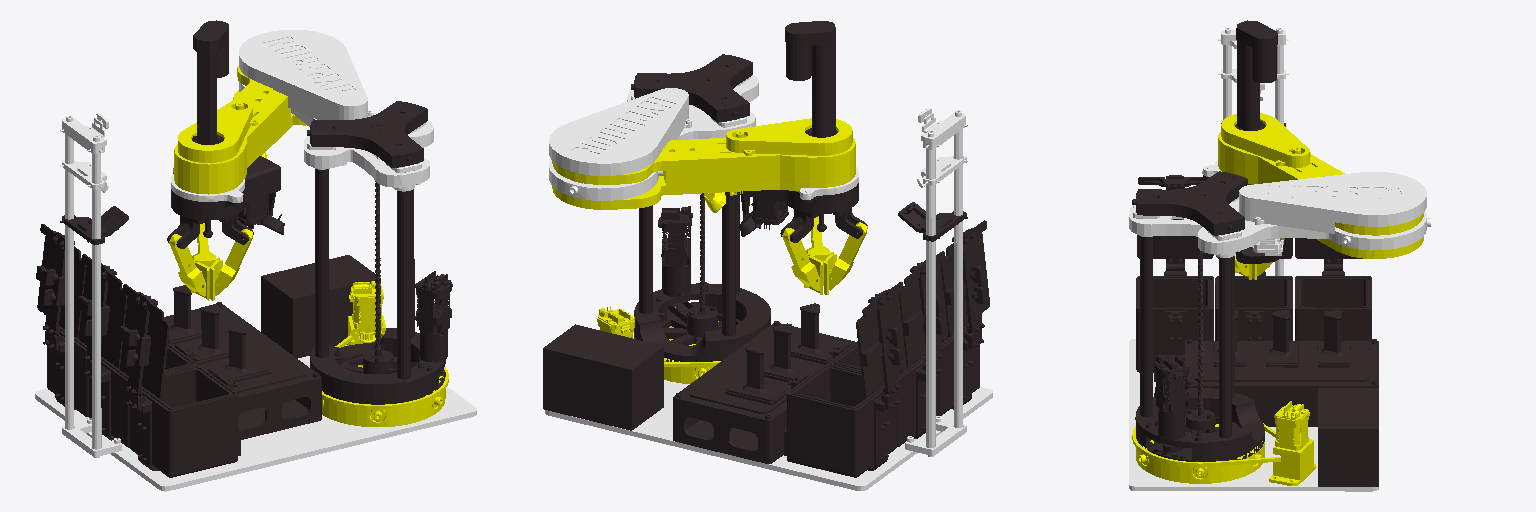
--- What the picture shows (computed from the rendered views, not written in the file) ---
The picture shows the robot from 3 angles, left to right: view 1: azimuth 30°, elevation 25°; view 2: azimuth 150°, elevation 25°; view 3: azimuth 270°, elevation 25°; orthographic projection.
Model sysmap with 22 links and 21 joints (9 revolute, 3 prismatic, 9 fixed), rooted at world, posed every joint at zero.
Links seen in each view (by area): view 1: colonne, interne, electrique, stockage_boite, platine, externe, aileron, batterie, pince_base, base, stockage_couvercle, poignet (+8 smaller); view 2: colonne, externe, electrique, interne, batterie, stockage_boite3, aileron, platine, poignet, pince_base, stockage_couvercle3, stockage_couvercle (+8 smaller); view 3: colonne, interne, electrique, externe, batterie, base, stockage_boite, stockage_boite3, platine, poignet, stockage_boite2, aileron (+2 smaller).
Boxes of the visible links, x1=… form: colonne: x1=307, y1=101, x2=452, y2=404; interne: x1=239, y1=30, x2=433, y2=191; electrique: x1=163, y1=285, x2=321, y2=439; stockage_boite: x1=126, y1=366, x2=240, y2=477; platine: x1=35, y1=356, x2=476, y2=491; externe: x1=174, y1=66, x2=305, y2=194; aileron: x1=60, y1=113, x2=121, y2=457; batterie: x1=261, y1=255, x2=380, y2=358; pince_base: x1=167, y1=156, x2=284, y2=248; base: x1=322, y1=281, x2=448, y2=426; stockage_couvercle: x1=119, y1=284, x2=169, y2=397; poignet: x1=192, y1=20, x2=228, y2=144; colonne: x1=631, y1=54, x2=770, y2=361; externe: x1=552, y1=118, x2=855, y2=212; electrique: x1=673, y1=303, x2=855, y2=463; interne: x1=549, y1=75, x2=758, y2=200; batterie: x1=543, y1=324, x2=663, y2=430; stockage_boite3: x1=784, y1=364, x2=900, y2=477; aileron: x1=905, y1=108, x2=967, y2=456; platine: x1=545, y1=380, x2=992, y2=490; poignet: x1=785, y1=21, x2=837, y2=137; pince_base: x1=739, y1=183, x2=867, y2=242; stockage_couvercle3: x1=856, y1=282, x2=906, y2=396; stockage_couvercle: x1=940, y1=220, x2=989, y2=334; colonne: x1=1132, y1=171, x2=1264, y2=461; interne: x1=1129, y1=172, x2=1430, y2=257; electrique: x1=1185, y1=309, x2=1378, y2=426; externe: x1=1218, y1=113, x2=1423, y2=258; batterie: x1=1318, y1=388, x2=1378, y2=486; base: x1=1132, y1=401, x2=1315, y2=485; stockage_boite: x1=1136, y1=263, x2=1213, y2=381; stockage_boite3: x1=1295, y1=263, x2=1371, y2=340; platine: x1=1129, y1=339, x2=1378, y2=491; poignet: x1=1235, y1=20, x2=1277, y2=130; stockage_boite2: x1=1215, y1=271, x2=1292, y2=340; aileron: x1=1218, y1=28, x2=1288, y2=275.
Size in the robot's own frame: 0.5805 by 0.4659 by 0.6292 metres.
21 mesh visuals loaded from 15 distinct referenced files (15 binary STL).

URDF robot description (sysmap):
<?xml version="1.0" encoding="UTF-8" ?>
<robot name="sysmap">
    <material name="black">
        <color rgba="0.24 0.2 0.21 1" />
    </material>
    <material name="white">
        <color rgba="1 1 1 1" />
    </material>
    <material name="yellow">
        <color rgba="1 1 0 1" />
    </material>
    <link name="world" />
    <link name="platine">
        <visual>
            <origin rpy="1.57 0.0 0.0" />
            <material name="white" />
            <geometry>
                <mesh filename="package://klampt/meshes/1_Platine_optimized.stl" />
            </geometry>
        </visual>
        <collision>
            <origin rpy="1.57 0.0 0.0" />
            <material name="white" />
            <geometry>
                <mesh filename="package://klampt/meshes/1_Platine_convexHull.stl" />
            </geometry>
        </collision>
        <inertial>
            <mass value="0.1" />
            <origin xyz="0 0 0" rpy="0 0 0" />
            <inertia ixx="0.03" iyy="0.03" izz="0.03" ixy="0.0" ixz="0.0" iyz="0.0" />
        </inertial>
    </link>
    <link name="aileron">
        <visual>
            <origin rpy="1.57 0.0 0.0" />
            <material name="white" />
            <geometry>
                <mesh filename="package://klampt/meshes/2_SupportAileron_optimized.stl" />
            </geometry>
        </visual>
        <collision>
            <origin rpy="1.57 0.0 0.0" />
            <material name="white" />
            <geometry>
                <mesh filename="package://klampt/meshes/2_SupportAileron_convexHull.stl" />
            </geometry>
        </collision>
        <inertial>
            <mass value="0.1" />
            <origin xyz="0 0 0" rpy="0 0 0" />
            <inertia ixx="0.03" iyy="0.03" izz="0.03" ixy="0.0" ixz="0.0" iyz="0.0" />
        </inertial>
    </link>
    <link name="aileron_camera">
        <visual>
            <origin rpy="1.57 0.0 0.0" />
            <material name="black" />
            <geometry>
                <mesh filename="package://klampt/meshes/2_SupportAileron_camera_optimized.stl" />
            </geometry>
        </visual>
        <collision>
            <origin rpy="1.57 0.0 0.0" />
            <material name="black" />
            <geometry>
                <mesh filename="package://klampt/meshes/2_SupportAileron_camera_convexHull.stl" />
            </geometry>
        </collision>
        <inertial>
            <mass value="0.1" />
            <origin xyz="0 0 0" rpy="0 0 0" />
            <inertia ixx="0.03" iyy="0.03" izz="0.03" ixy="0.0" ixz="0.0" iyz="0.0" />
        </inertial>
    </link>
    <link name="stockage_boite">
        <visual>
            <origin rpy="1.57 0.0 0.0" />
            <material name="black" />
            <geometry>
                <mesh filename="package://klampt/meshes/3_ZoneStockage_boite_optimized.stl" scale="0.001 0.001 0.001" />
            </geometry>
        </visual>
        <collision>
            <origin rpy="1.57 0.0 0.0" />
            <material name="black" />
            <geometry>
                <mesh filename="package://klampt/meshes/3_ZoneStockage_boite_convexHull.stl" scale="0.001 0.001 0.001" />
            </geometry>
        </collision>
        <inertial>
            <mass value="0.1" />
            <origin xyz="0 0 0" rpy="0 0 0" />
            <inertia ixx="0.03" iyy="0.03" izz="0.03" ixy="0.0" ixz="0.0" iyz="0.0" />
        </inertial>
    </link>
    <link name="stockage_couvercle">
        <visual>
            <origin rpy="1.57 0.0 0.0" />
            <material name="black" />
            <geometry>
                <mesh filename="package://klampt/meshes/3_ZoneStockage_couvercle_optimized.stl" scale="0.001 0.001 0.001" />
            </geometry>
        </visual>
        <collision>
            <origin rpy="1.57 0.0 0.0" />
            <material name="black" />
            <geometry>
                <mesh filename="package://klampt/meshes/3_ZoneStockage_couvercle_convexHull.stl" scale="0.001 0.001 0.001" />
            </geometry>
        </collision>
        <inertial>
            <mass value="0.1" />
            <origin xyz="0 0 0" rpy="0 0 0" />
            <inertia ixx="0.03" iyy="0.03" izz="0.03" ixy="0.0" ixz="0.0" iyz="0.0" />
        </inertial>
    </link>
    <link name="stockage_boite2">
        <visual>
            <origin rpy="1.57 0.0 0.0" />
            <material name="black" />
            <geometry>
                <mesh filename="package://klampt/meshes/3_ZoneStockage_boite_optimized.stl" scale="0.001 0.001 0.001" />
            </geometry>
        </visual>
        <collision>
            <origin rpy="1.57 0.0 0.0" />
            <material name="black" />
            <geometry>
                <mesh filename="package://klampt/meshes/3_ZoneStockage_boite_convexHull.stl" scale="0.001 0.001 0.001" />
            </geometry>
        </collision>
        <inertial>
            <mass value="0.1" />
            <origin xyz="0 0 0" rpy="0 0 0" />
            <inertia ixx="0.03" iyy="0.03" izz="0.03" ixy="0.0" ixz="0.0" iyz="0.0" />
        </inertial>
    </link>
    <link name="stockage_couvercle2">
        <visual>
            <origin rpy="1.57 0.0 0.0" />
            <material name="black" />
            <geometry>
                <mesh filename="package://klampt/meshes/3_ZoneStockage_couvercle_optimized.stl" scale="0.001 0.001 0.001" />
            </geometry>
        </visual>
        <collision>
            <origin rpy="1.57 0.0 0.0" />
            <material name="black" />
            <geometry>
                <mesh filename="package://klampt/meshes/3_ZoneStockage_couvercle_convexHull.stl" scale="0.001 0.001 0.001" />
            </geometry>
        </collision>
        <inertial>
            <mass value="0.1" />
            <origin xyz="0 0 0" rpy="0 0 0" />
            <inertia ixx="0.03" iyy="0.03" izz="0.03" ixy="0.0" ixz="0.0" iyz="0.0" />
        </inertial>
    </link>
    <link name="stockage_boite3">
        <visual>
            <origin rpy="1.57 0.0 0.0" />
            <material name="black" />
            <geometry>
                <mesh filename="package://klampt/meshes/3_ZoneStockage_boite_optimized.stl" scale="0.001 0.001 0.001" />
            </geometry>
        </visual>
        <collision>
            <origin rpy="1.57 0.0 0.0" />
            <material name="black" />
            <geometry>
                <mesh filename="package://klampt/meshes/3_ZoneStockage_boite_convexHull.stl" scale="0.001 0.001 0.001" />
            </geometry>
        </collision>
        <inertial>
            <mass value="0.1" />
            <origin xyz="0 0 0" rpy="0 0 0" />
            <inertia ixx="0.03" iyy="0.03" izz="0.03" ixy="0.0" ixz="0.0" iyz="0.0" />
        </inertial>
    </link>
    <link name="stockage_couvercle3">
        <visual>
            <origin rpy="1.57 0.0 0.0" />
            <material name="black" />
            <geometry>
                <mesh filename="package://klampt/meshes/3_ZoneStockage_couvercle_optimized.stl" scale="0.001 0.001 0.001" />
            </geometry>
        </visual>
        <collision>
            <origin rpy="1.57 0.0 0.0" />
            <material name="black" />
            <geometry>
                <mesh filename="package://klampt/meshes/3_ZoneStockage_couvercle_convexHull.stl" scale="0.001 0.001 0.001" />
            </geometry>
        </collision>
        <inertial>
            <mass value="0.1" />
            <origin xyz="0 0 0" rpy="0 0 0" />
            <inertia ixx="0.03" iyy="0.03" izz="0.03" ixy="0.0" ixz="0.0" iyz="0.0" />
        </inertial>
    </link>
    <link name="electrique">
        <visual>
            <origin rpy="1.57 0.0 0.0" />
            <material name="black" />
            <geometry>
                <mesh filename="package://klampt/meshes/5_ZoneElec_optimized.stl" />
            </geometry>
        </visual>
        <collision>
            <origin rpy="1.57 0.0 0.0" />
            <material name="black" />
            <geometry>
                <mesh filename="package://klampt/meshes/5_ZoneElec_convexHull.stl" />
            </geometry>
        </collision>
        <inertial>
            <mass value="0.1" />
            <origin xyz="0 0 0" rpy="0 0 0" />
            <inertia ixx="0.03" iyy="0.03" izz="0.03" ixy="0.0" ixz="0.0" iyz="0.0" />
        </inertial>
    </link>
    <link name="batterie">
        <visual>
            <origin rpy="1.57 0.0 0.0" />
            <material name="black" />
            <geometry>
                <mesh filename="package://klampt/meshes/6_ZoneBatterie.stl" />
            </geometry>
        </visual>
        <collision>
            <origin rpy="1.57 0.0 0.0" />
            <material name="black" />
            <geometry>
                <mesh filename="package://klampt/meshes/6_ZoneBatterie.stl" />
            </geometry>
        </collision>
        <inertial>
            <mass value="0.1" />
            <origin xyz="0 0 0" rpy="0 0 0" />
            <inertia ixx="0.03" iyy="0.03" izz="0.03" ixy="0.0" ixz="0.0" iyz="0.0" />
        </inertial>
    </link>
    <link name="base">
        <visual>
            <origin rpy="1.57 0.0 0.0" />
            <material name="yellow" />
            <geometry>
                <mesh filename="package://klampt/meshes/7_1_scara_base_optimized.stl" />
            </geometry>
        </visual>
        <collision>
            <origin rpy="1.57 0.0 0.0" />
            <material name="yellow" />
            <geometry>
                <mesh filename="package://klampt/meshes/7_1_scara_base_convexHull.stl" />
            </geometry>
        </collision>
        <inertial>
            <mass value="0.1" />
            <origin xyz="0 0 0" rpy="0 0 0" />
            <inertia ixx="0.03" iyy="0.03" izz="0.03" ixy="0.0" ixz="0.0" iyz="0.0" />
        </inertial>
    </link>
    <link name="colonne">
        <visual>
            <origin rpy="1.57 0.0 0.0" />
            <material name="black" />
            <geometry>
                <mesh filename="package://klampt/meshes/7_2_scara_colonne_optimized.stl" />
            </geometry>
        </visual>
        <collision>
            <origin rpy="1.57 0.0 0.0" />
            <material name="black" />
            <geometry>
                <mesh filename="package://klampt/meshes/7_2_scara_colonne_convexHull.stl" />
            </geometry>
        </collision>
        <inertial>
            <mass value="0.1" />
            <origin xyz="0 0 0" rpy="0 0 0" />
            <inertia ixx="0.03" iyy="0.03" izz="0.03" ixy="0.0" ixz="0.0" iyz="0.0" />
        </inertial>
    </link>
    <link name="interne">
        <visual>
            <origin rpy="1.57 0.0 0.0" />
            <material name="white" />
            <geometry>
                <mesh filename="package://klampt/meshes/7_3_scara_interne_optimized.stl" />
            </geometry>
        </visual>
        <collision>
            <origin rpy="1.57 0.0 0.0" />
            <material name="white" />
            <geometry>
                <mesh filename="package://klampt/meshes/7_3_scara_interne_convexHull.stl" />
            </geometry>
        </collision>
        <inertial>
            <mass value="0.1" />
            <origin xyz="0 0 0" rpy="0 0 0" />
            <inertia ixx="0.03" iyy="0.03" izz="0.03" ixy="0.0" ixz="0.0" iyz="0.0" />
        </inertial>
    </link>
    <link name="externe">
        <visual>
            <origin rpy="1.57 0.0 0.0" />
            <material name="yellow" />
            <geometry>
                <mesh filename="package://klampt/meshes/7_4_scara_externe_optimized.stl" />
            </geometry>
        </visual>
        <collision>
            <origin rpy="1.57 0.0 0.0" />
            <material name="yellow" />
            <geometry>
                <mesh filename="package://klampt/meshes/7_4_scara_externe_convexHull.stl" />
            </geometry>
        </collision>
        <inertial>
            <mass value="0.1" />
            <origin xyz="0 0 0" rpy="0 0 0" />
            <inertia ixx="0.03" iyy="0.03" izz="0.03" ixy="0.0" ixz="0.0" iyz="0.0" />
        </inertial>
    </link>
    <link name="poignet">
        <visual>
            <origin rpy="1.57 0.0 0.0" />
            <material name="black" />
            <geometry>
                <mesh filename="package://klampt/meshes/7_5_scara_poignet_optimized.stl" />
            </geometry>
        </visual>
        <collision>
            <origin rpy="1.57 0.0 0.0" />
            <material name="black" />
            <geometry>
                <mesh filename="package://klampt/meshes/7_5_scara_poignet_convexHull.stl" />
            </geometry>
        </collision>
        <inertial>
            <mass value="0.1" />
            <origin xyz="0 0 0" rpy="0 0 0" />
            <inertia ixx="0.03" iyy="0.03" izz="0.03" ixy="0.0" ixz="0.0" iyz="0.0" />
        </inertial>
    </link>
    <link name="verin">
        <visual>
            <origin rpy="1.57 0.0 0.0" />
            <material name="white" />
            <geometry>
                <mesh filename="package://klampt/meshes/7_6_scara_verin_optimized.stl" />
            </geometry>
        </visual>
        <collision>
            <origin rpy="1.57 0.0 0.0" />
            <material name="white" />
            <geometry>
                <mesh filename="package://klampt/meshes/7_6_scara_verin_convexHull.stl" />
            </geometry>
        </collision>
        <inertial>
            <mass value="0.1" />
            <origin xyz="0 0 0" rpy="0 0 0" />
            <inertia ixx="0.03" iyy="0.03" izz="0.03" ixy="0.0" ixz="0.0" iyz="0.0" />
        </inertial>
    </link>
    <link name="pince_base">
        <visual>
            <origin rpy="1.57 0.0 0.0" />
            <material name="black" />
            <geometry>
                <mesh filename="package://klampt/meshes/7_7_scara_pince_base_optimized.stl" />
            </geometry>
        </visual>
        <collision>
            <origin rpy="1.57 0.0 0.0" />
            <material name="black" />
            <geometry>
                <mesh filename="package://klampt/meshes/7_7_scara_pince_base_convexHull.stl" />
            </geometry>
        </collision>
        <inertial>
            <mass value="0.1" />
            <origin xyz="0 0 0" rpy="0 0 0" />
            <inertia ixx="0.03" iyy="0.03" izz="0.03" ixy="0.0" ixz="0.0" iyz="0.0" />
        </inertial>
    </link>
    <link name="doigt1">
        <visual>
            <origin xyz="0.0 0.0 0.0" rpy="1.57 -2.094 0.0" />
            <material name="yellow" />
            <geometry>
                <mesh filename="package://klampt/meshes/7_7_scara_pince_doigt_optimized.stl" />
            </geometry>
        </visual>
        <collision>
            <origin xyz="0.0 0.0 0.0" rpy="1.57 -2.094 0.0" />
            <material name="yellow" />
            <geometry>
                <mesh filename="package://klampt/meshes/7_7_scara_pince_doigt_convexHull.stl" />
            </geometry>
        </collision>
        <inertial>
            <mass value="0.1" />
            <origin xyz="0 0 0" rpy="0 0 0" />
            <inertia ixx="0.03" iyy="0.03" izz="0.03" ixy="0.0" ixz="0.0" iyz="0.0" />
        </inertial>
    </link>
    <link name="doigt2">
        <visual>
            <origin xyz="0.0 0.0 0.0" rpy="1.57 -2.094 0.0" />
            <material name="yellow" />
            <geometry>
                <mesh filename="package://klampt/meshes/7_7_scara_pince_doigt_optimized.stl" />
            </geometry>
        </visual>
        <collision>
            <origin xyz="0.0 0.0 0.0" rpy="1.57 -2.094 0.0" />
            <material name="yellow" />
            <geometry>
                <mesh filename="package://klampt/meshes/7_7_scara_pince_doigt_convexHull.stl" />
            </geometry>
        </collision>
        <inertial>
            <mass value="0.1" />
            <origin xyz="0 0 0" rpy="0 0 0" />
            <inertia ixx="0.03" iyy="0.03" izz="0.03" ixy="0.0" ixz="0.0" iyz="0.0" />
        </inertial>
    </link>
    <link name="doigt3">
        <visual>
            <origin xyz="0.0 0.0 0.0" rpy="1.57 -2.094 0.0" />
            <material name="yellow" />
            <geometry>
                <mesh filename="package://klampt/meshes/7_7_scara_pince_doigt_optimized.stl" />
            </geometry>
        </visual>
        <collision>
            <origin xyz="0.0 0.0 0.0" rpy="1.57 -2.094 0.0" />
            <material name="yellow" />
            <geometry>
                <mesh filename="package://klampt/meshes/7_7_scara_pince_doigt_convexHull.stl" />
            </geometry>
        </collision>
        <inertial>
            <mass value="0.1" />
            <origin xyz="0 0 0" rpy="0 0 0" />
            <inertia ixx="0.03" iyy="0.03" izz="0.03" ixy="0.0" ixz="0.0" iyz="0.0" />
        </inertial>
    </link>
    <joint name="world_platine" type="fixed">
        <origin xyz="0.0 0.0 0.0" rpy="0.0 0.0 0.0" />
        <parent link="world" />
        <child link="platine" />
    </joint>
    <joint name="platine_aileron" type="fixed">
        <origin xyz="-0.42 0.042 0.0" rpy="0.0 0.0 0.0" />
        <parent link="platine" />
        <child link="aileron" />
    </joint>
    <joint name="platine_stockageBoite" type="fixed">
        <origin xyz="-0.2789 -0.06397 0.0" rpy="1.57 0.0 -1.57" />
        <parent link="platine" />
        <child link="stockage_boite" />
    </joint>
    <joint name="stockageBoite_couvercle" type="revolute">
        <origin xyz="-0.0185 0.1203 0.1528" rpy="-0.117 0.0 0.0" />
        <parent link="stockage_boite" />
        <child link="stockage_couvercle" />
        <axis xyz="-1.0 0.0 0.0" />
        <limit lower="0.0" upper="1.453" effort="0.0" velocity="0.0" />
    </joint>
    <joint name="platine_stockageBoite2" type="fixed">
        <origin xyz="-0.2789 0.05803 0.0" rpy="1.57 0.0 -1.57" />
        <parent link="platine" />
        <child link="stockage_boite2" />
    </joint>
    <joint name="stockageBoite_couvercle2" type="revolute">
        <origin xyz="-0.0185 0.1203 0.1528" rpy="-0.117 0.0 0.0" />
        <parent link="stockage_boite2" />
        <child link="stockage_couvercle2" />
        <axis xyz="-1.0 0.0 0.0" />
        <limit lower="0.0" upper="1.453" effort="0.0" velocity="0.0" />
    </joint>
    <joint name="platine_stockageBoite3" type="fixed">
        <origin xyz="-0.2789 0.18003 0.0" rpy="1.57 0.0 -1.57" />
        <parent link="platine" />
        <child link="stockage_boite3" />
    </joint>
    <joint name="stockageBoite_couvercle3" type="revolute">
        <origin xyz="-0.0185 0.1203 0.1528" rpy="-0.117 0.0 0.0" />
        <parent link="stockage_boite3" />
        <child link="stockage_couvercle3" />
        <axis xyz="-1.0 0.0 0.0" />
        <limit lower="0.0" upper="1.453" effort="0.0" velocity="0.0" />
    </joint>
    <joint name="platine_electrique" type="fixed">
        <origin xyz="-0.1179 -0.004 0.0" rpy="0.0 0.0 0.0" />
        <parent link="platine" />
        <child link="electrique" />
    </joint>
    <joint name="platine_batterie" type="fixed">
        <origin xyz="0.110 0.276 0.0" rpy="0.0 0.0 0.0" />
        <parent link="platine" />
        <child link="batterie" />
    </joint>
    <joint name="platine_base" type="fixed">
        <origin xyz="0.0 0.0 0.0" rpy="0.0 0.0 0.0" />
        <parent link="platine" />
        <child link="base" />
    </joint>
    <joint name="base_rotation" type="revolute">
        <origin xyz="0.0 0.0 0.03" rpy="0.0 0.0 -5.4044" />
        <parent link="base" />
        <child link="colonne" />
        <axis xyz="0.0 0.0 1.0" />
        <limit lower="0" upper="6.13" effort="0.0" velocity="0.6" />
    </joint>
    <joint name="epaule_translation" type="prismatic">
        <origin xyz="0.0 0.0 0.391" rpy="0.0 0.0 0.0" />
        <parent link="colonne" />
        <child link="interne" />
        <axis xyz="0.0 0.0 1.0" />
        <limit lower="-0.2789" upper="0" effort="0.0" velocity="0.05" />
    </joint>
    <joint name="epaule_rotation" type="revolute">
        <origin xyz="0.214559 0.163904 -0.005" rpy="0.0 0.0 2.48" />
        <parent link="interne" />
        <child link="externe" />
        <axis xyz="0.0 0.0 -1.0" />
        <limit lower="0.0" upper="4.54" effort="0.0" velocity="0.6" />
    </joint>
    <joint name="pince_rotation" type="revolute">
        <origin xyz="0.29117 0.13275 0.030" rpy="0.0 0.0 2.36" />
        <parent link="externe" />
        <child link="poignet" />
        <axis xyz="0.0 0.0 -1.0" />
        <limit lower="0" upper="5.45" effort="0.0" velocity="0.6" />
    </joint>
    <joint name="verin" type="prismatic">
        <origin xyz="0.0 0.0 -0.049" rpy="0.0 0.0 0.0" />
        <parent link="poignet" />
        <child link="verin" />
        <axis xyz="0.0 0.0 1.0" />
        <limit lower="-0.15" upper="0.0" effort="0.0" velocity="0.15" />
    </joint>
    <joint name="verin_pince" type="fixed">
        <origin xyz="0.0 0.0 -0.025" rpy="-1.57 0.0 0.74" />
        <parent link="verin" />
        <child link="pince_base" />
    </joint>
    <joint name="fermeture_pince_ouverture" type="revolute">
        <origin xyz="0.02405 0.07176 0.05466" rpy="0.0 2.094 0.0" />
        <parent link="pince_base" />
        <child link="doigt1" />
        <axis xyz="0.0 0.0 1.0" />
        <limit lower="0" upper="0.8346" effort="0.0" velocity="0.6" />
    </joint>
    <joint name="pince_doigt2" type="revolute">
        <origin xyz="-0.05936 0.07176 -0.0065" rpy="0.0 0.0 0.0" />
        <parent link="pince_base" />
        <child link="doigt2" />
        <axis xyz="0.0 0.0 1.0" />
        <limit lower="0" upper="0.8346" effort="0.0" velocity="0.6" />
        <mimic joint="fermeture_pince_ouverture" multiplier="1" offset="0" />
    </joint>
    <joint name="pince_doigt3" type="revolute">
        <origin xyz="0.03531 0.07176 -0.04816" rpy="0.0 -2.094 0.0" />
        <parent link="pince_base" />
        <child link="doigt3" />
        <axis xyz="0.0 0.0 1.0" />
        <limit lower="0" upper="0.8346" effort="0.0" velocity="0.6" />
        <mimic joint="fermeture_pince_ouverture" multiplier="1" offset="0" />
    </joint>
    <joint name="platine_aileron_camera" type="prismatic">
        <origin xyz="-0.42 0.042 -0.05" rpy="0.0 0.0 0.0" />
        <parent link="platine" />
        <child link="aileron_camera" />
        <axis xyz="0.0 0.0 1.0" />
        <limit lower="-0.05" upper="0.08" effort="0.0" velocity="0.0" />
    </joint>
    <!-- <klampt package_root="../../" flip_yz="0" use_vis_geom="1"  freeze_root_link="0" > -->
    <transmission name="trans_stockageBoite_couvercle">
        <type>transmission_interface/SimpleTransmission</type>
        <joint name="stockageBoite_couvercle">
            <hardwareInterface>hardware_interface/EffortJointInterface</hardwareInterface>
        </joint>
        <actuator name="stockageBoite_couvercle_motor">
            <hardwareInterface>hardware_interface/EffortJointInterface</hardwareInterface>
            <mechanicalReduction>1</mechanicalReduction>
        </actuator>
    </transmission>
    <transmission name="trans_stockageBoite_couvercle2">
        <type>transmission_interface/SimpleTransmission</type>
        <joint name="stockageBoite_couvercle2">
            <hardwareInterface>hardware_interface/EffortJointInterface</hardwareInterface>
        </joint>
        <actuator name="stockageBoite_couvercle2_motor">
            <hardwareInterface>hardware_interface/EffortJointInterface</hardwareInterface>
            <mechanicalReduction>1</mechanicalReduction>
        </actuator>
    </transmission>
    <transmission name="trans_stockageBoite_couvercle3">
        <type>transmission_interface/SimpleTransmission</type>
        <joint name="stockageBoite_couvercle3">
            <hardwareInterface>hardware_interface/EffortJointInterface</hardwareInterface>
        </joint>
        <actuator name="stockageBoite_couvercle3_motor">
            <hardwareInterface>hardware_interface/EffortJointInterface</hardwareInterface>
            <mechanicalReduction>1</mechanicalReduction>
        </actuator>
    </transmission>
    <transmission name="trans_base_rotation">
        <type>transmission_interface/SimpleTransmission</type>
        <joint name="base_rotation">
            <hardwareInterface>hardware_interface/EffortJointInterface</hardwareInterface>
        </joint>
        <actuator name="base_rotation_motor">
            <hardwareInterface>hardware_interface/EffortJointInterface</hardwareInterface>
            <mechanicalReduction>1</mechanicalReduction>
        </actuator>
    </transmission>
    <transmission name="trans_epaule_translation">
        <type>transmission_interface/SimpleTransmission</type>
        <joint name="epaule_translation">
            <hardwareInterface>hardware_interface/EffortJointInterface</hardwareInterface>
        </joint>
        <actuator name="epaule_translation_motor">
            <hardwareInterface>hardware_interface/EffortJointInterface</hardwareInterface>
            <mechanicalReduction>1</mechanicalReduction>
        </actuator>
    </transmission>
    <transmission name="trans_epaule_rotation">
        <type>transmission_interface/SimpleTransmission</type>
        <joint name="epaule_rotation">
            <hardwareInterface>hardware_interface/EffortJointInterface</hardwareInterface>
        </joint>
        <actuator name="epaule_rotation_motor">
            <hardwareInterface>hardware_interface/EffortJointInterface</hardwareInterface>
            <mechanicalReduction>1</mechanicalReduction>
        </actuator>
    </transmission>
    <transmission name="trans_pince_rotation">
        <type>transmission_interface/SimpleTransmission</type>
        <joint name="pince_rotation">
            <hardwareInterface>hardware_interface/EffortJointInterface</hardwareInterface>
        </joint>
        <actuator name="pince_rotation_motor">
            <hardwareInterface>hardware_interface/EffortJointInterface</hardwareInterface>
            <mechanicalReduction>1</mechanicalReduction>
        </actuator>
    </transmission>
    <transmission name="trans_verin">
        <type>transmission_interface/SimpleTransmission</type>
        <joint name="verin">
            <hardwareInterface>hardware_interface/EffortJointInterface</hardwareInterface>
        </joint>
        <actuator name="verin_motor">
            <hardwareInterface>hardware_interface/EffortJointInterface</hardwareInterface>
            <mechanicalReduction>1</mechanicalReduction>
        </actuator>
    </transmission>
    <transmission name="trans_fermeture_pince_ouverture">
        <type>transmission_interface/SimpleTransmission</type>
        <joint name="fermeture_pince_ouverture">
            <hardwareInterface>hardware_interface/EffortJointInterface</hardwareInterface>
        </joint>
        <actuator name="fermeture_pince_ouverture_motor">
            <hardwareInterface>hardware_interface/EffortJointInterface</hardwareInterface>
            <mechanicalReduction>1</mechanicalReduction>
        </actuator>
    </transmission>
    <transmission name="trans_pince_doigt2">
        <type>transmission_interface/SimpleTransmission</type>
        <joint name="pince_doigt2">
            <hardwareInterface>hardware_interface/EffortJointInterface</hardwareInterface>
        </joint>
        <actuator name="pince_doigt2_motor">
            <hardwareInterface>hardware_interface/EffortJointInterface</hardwareInterface>
            <mechanicalReduction>1</mechanicalReduction>
        </actuator>
    </transmission>
    <transmission name="trans_pince_doigt3">
        <type>transmission_interface/SimpleTransmission</type>
        <joint name="pince_doigt3">
            <hardwareInterface>hardware_interface/EffortJointInterface</hardwareInterface>
        </joint>
        <actuator name="pince_doigt3_motor">
            <hardwareInterface>hardware_interface/EffortJointInterface</hardwareInterface>
            <mechanicalReduction>1</mechanicalReduction>
        </actuator>
    </transmission>
    <transmission name="trans_platine_aileron_camera">
        <type>transmission_interface/SimpleTransmission</type>
        <joint name="platine_aileron_camera">
            <hardwareInterface>hardware_interface/EffortJointInterface</hardwareInterface>
        </joint>
        <actuator name="platine_aileron_camera_motor">
            <hardwareInterface>hardware_interface/EffortJointInterface</hardwareInterface>
            <mechanicalReduction>1</mechanicalReduction>
        </actuator>
    </transmission>
    <gazebo>
        <plugin name="gazebo_ros_control">
            <robotNamespace>/</robotNamespace>
        </plugin>
    </gazebo>
</robot>
